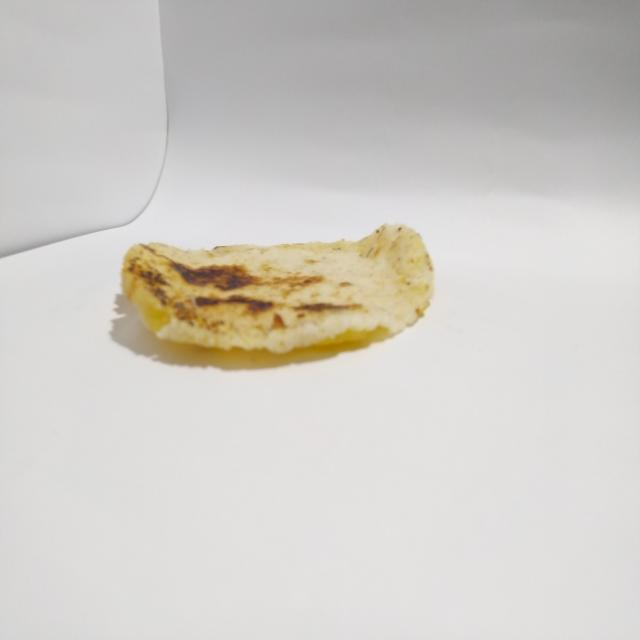Mbeju: (118, 216, 437, 371)
